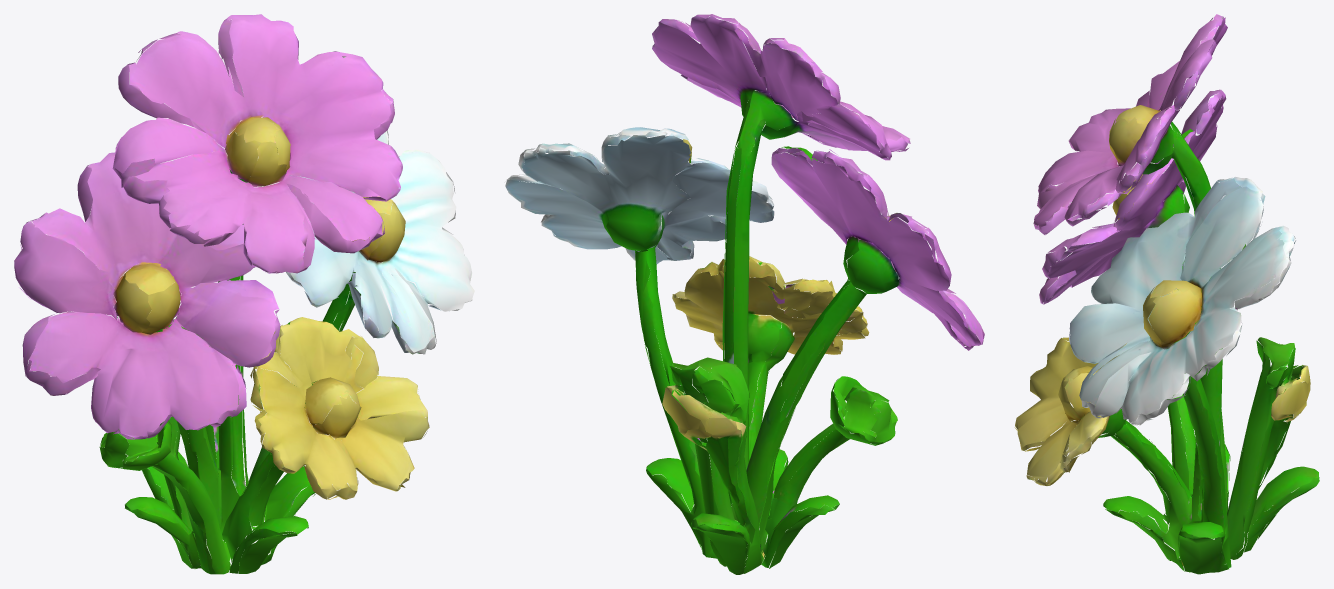
File: flowers.glb
The picture shows the model from 3 angles, left to right: view 1: azimuth 30°, elevation 25°; view 2: azimuth 150°, elevation 25°; view 3: azimuth 270°, elevation 25°; orthographic projection. The views are drawn at different scales.
Parts seen in each view (by area): view 1: tmpsoe_dwsf.ply; view 2: tmpsoe_dwsf.ply; view 3: tmpsoe_dwsf.ply.
Boxes of the visible parts, box(x1,y1,x2,y2) form: tmpsoe_dwsf.ply: box(14, 14, 474, 574); tmpsoe_dwsf.ply: box(505, 14, 984, 574); tmpsoe_dwsf.ply: box(1014, 14, 1319, 574).
Size of the model in its own units: 1.23 by 1.41 by 0.7482.
Materials: 1 (1 with a texture image).
